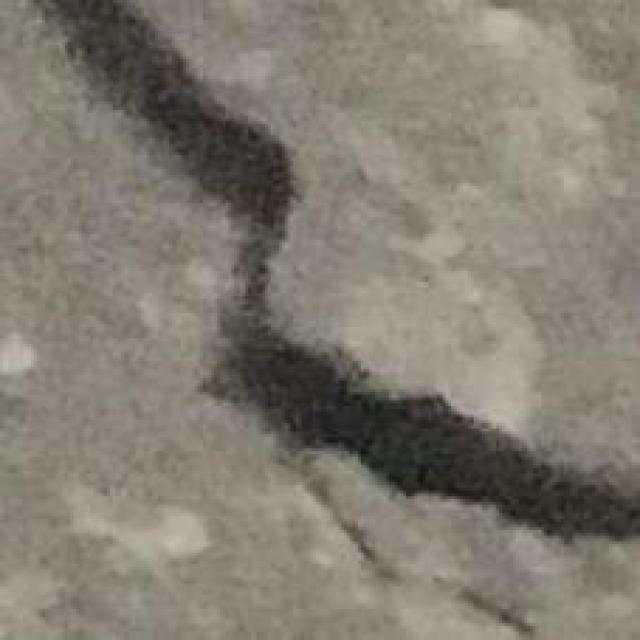Crack: (40, 0, 637, 539), (285, 446, 533, 637)
